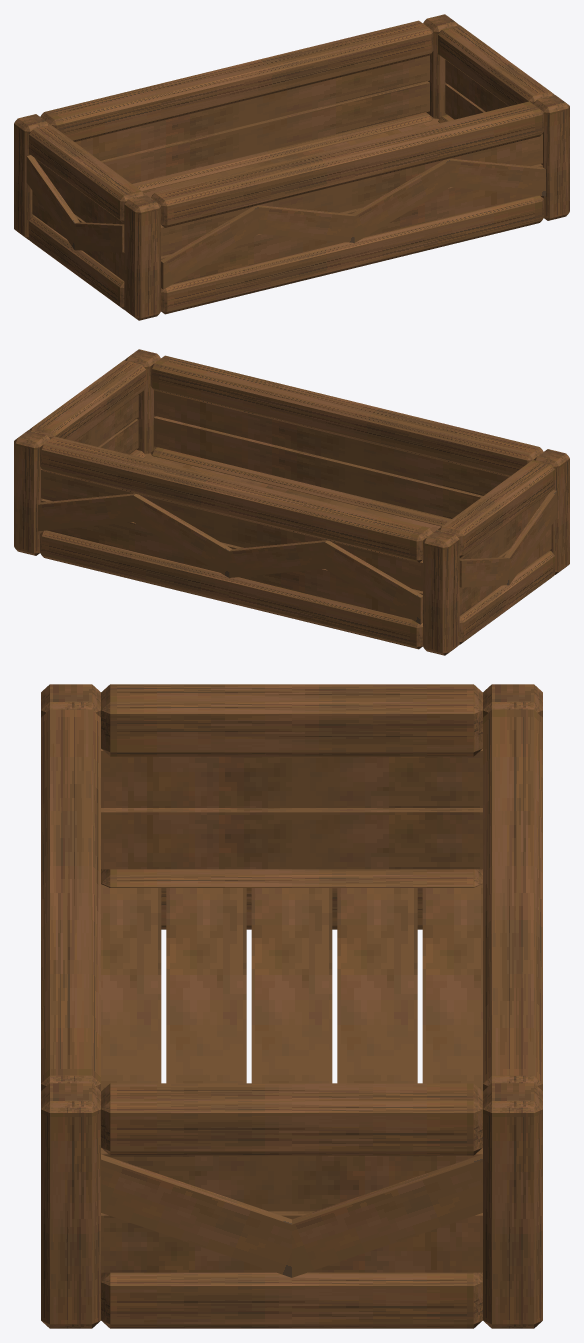
The model's file is openCrate_big_low.glb.
The picture shows the model from 3 angles, top to bottom: view 1: azimuth 30°, elevation 25°; view 2: azimuth 150°, elevation 25°; view 3: azimuth 270°, elevation 25°; orthographic projection. The views are drawn at different scales.
Parts seen in each view (by area): view 1: openCrate_big_low; view 2: openCrate_big_low; view 3: openCrate_big_low.
Part boxes in pixels (x1=…): openCrate_big_low: x1=14, y1=14, x2=569, y2=320; openCrate_big_low: x1=14, y1=349, x2=569, y2=655; openCrate_big_low: x1=41, y1=684, x2=542, y2=1328.
Size of the model in its own units: 2 by 0.5 by 1.
Materials: 1 (1 with a texture image).
